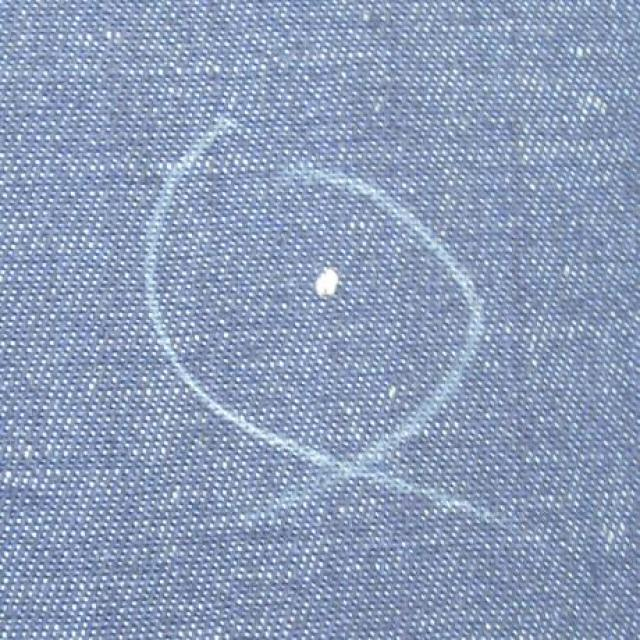stains: (246, 243, 370, 352)
